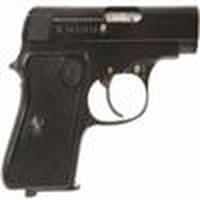gun: (3, 6, 190, 200)
